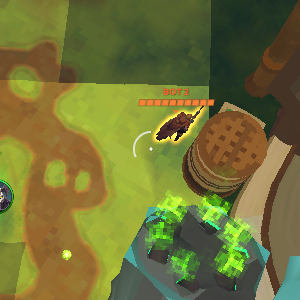model: (152, 112, 199, 146)
